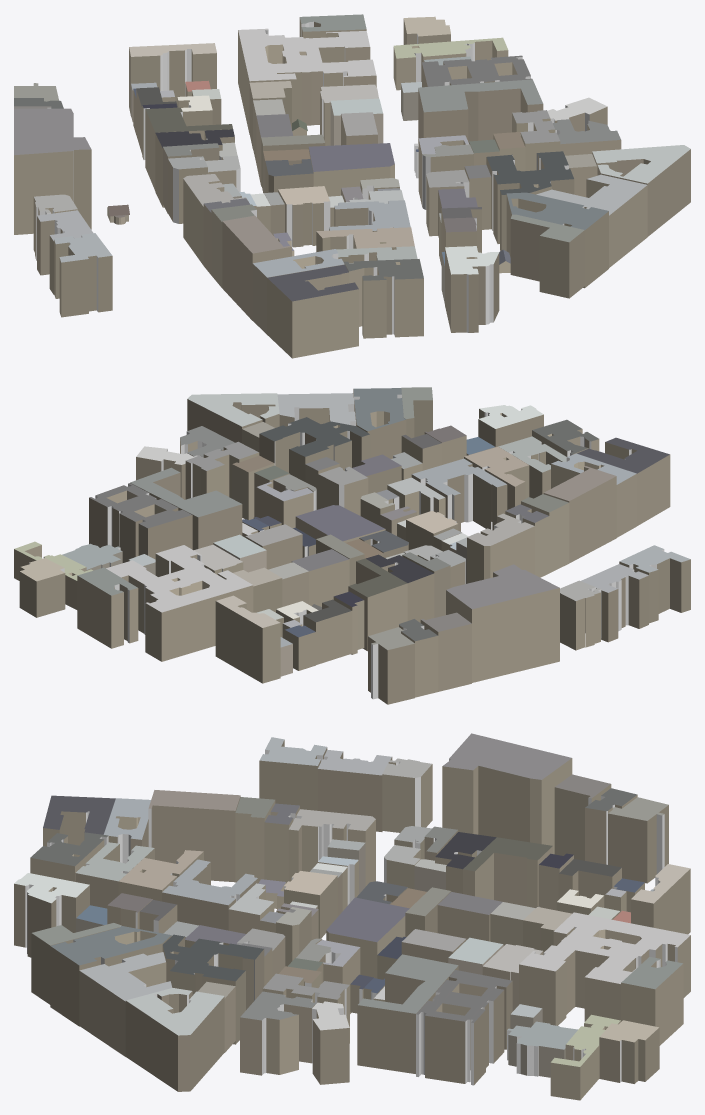
The picture shows the model from 3 angles, top to bottom: view 1: azimuth 30°, elevation 25°; view 2: azimuth 150°, elevation 25°; view 3: azimuth 270°, elevation 25°; orthographic projection. The views are drawn at different scales.
Parts seen in each view (by area): view 1: tuile; view 2: tuile; view 3: tuile.
Boxes of the visible parts, x1,y1,x2,y2 form: tuile: (14, 14, 690, 358); tuile: (14, 387, 690, 704); tuile: (14, 733, 690, 1100).
Bounding box in the file's own units: 288 × 40.59 × 271.
